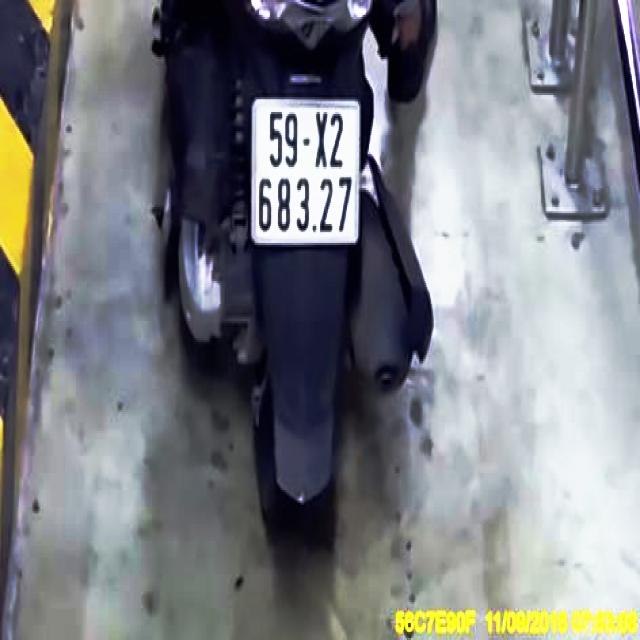license_plate: (255, 103, 360, 246)
